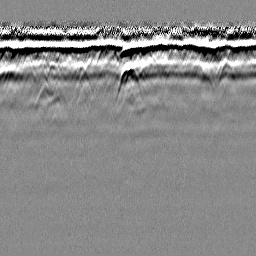cavity: (113, 61, 143, 104)
